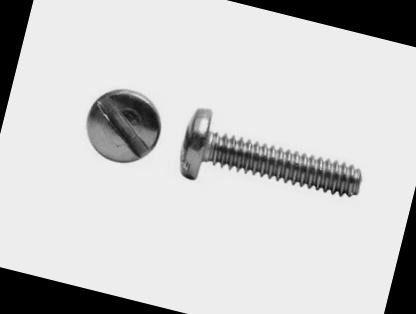screw: (78, 80, 170, 170)
